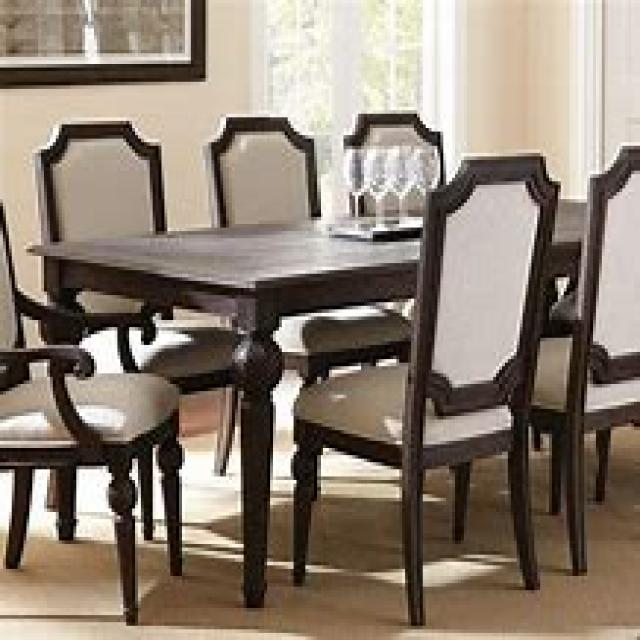chair: (288, 149, 560, 626), (32, 117, 241, 537), (452, 142, 637, 572), (0, 192, 182, 622), (206, 114, 411, 476)
table: (21, 192, 637, 604)
